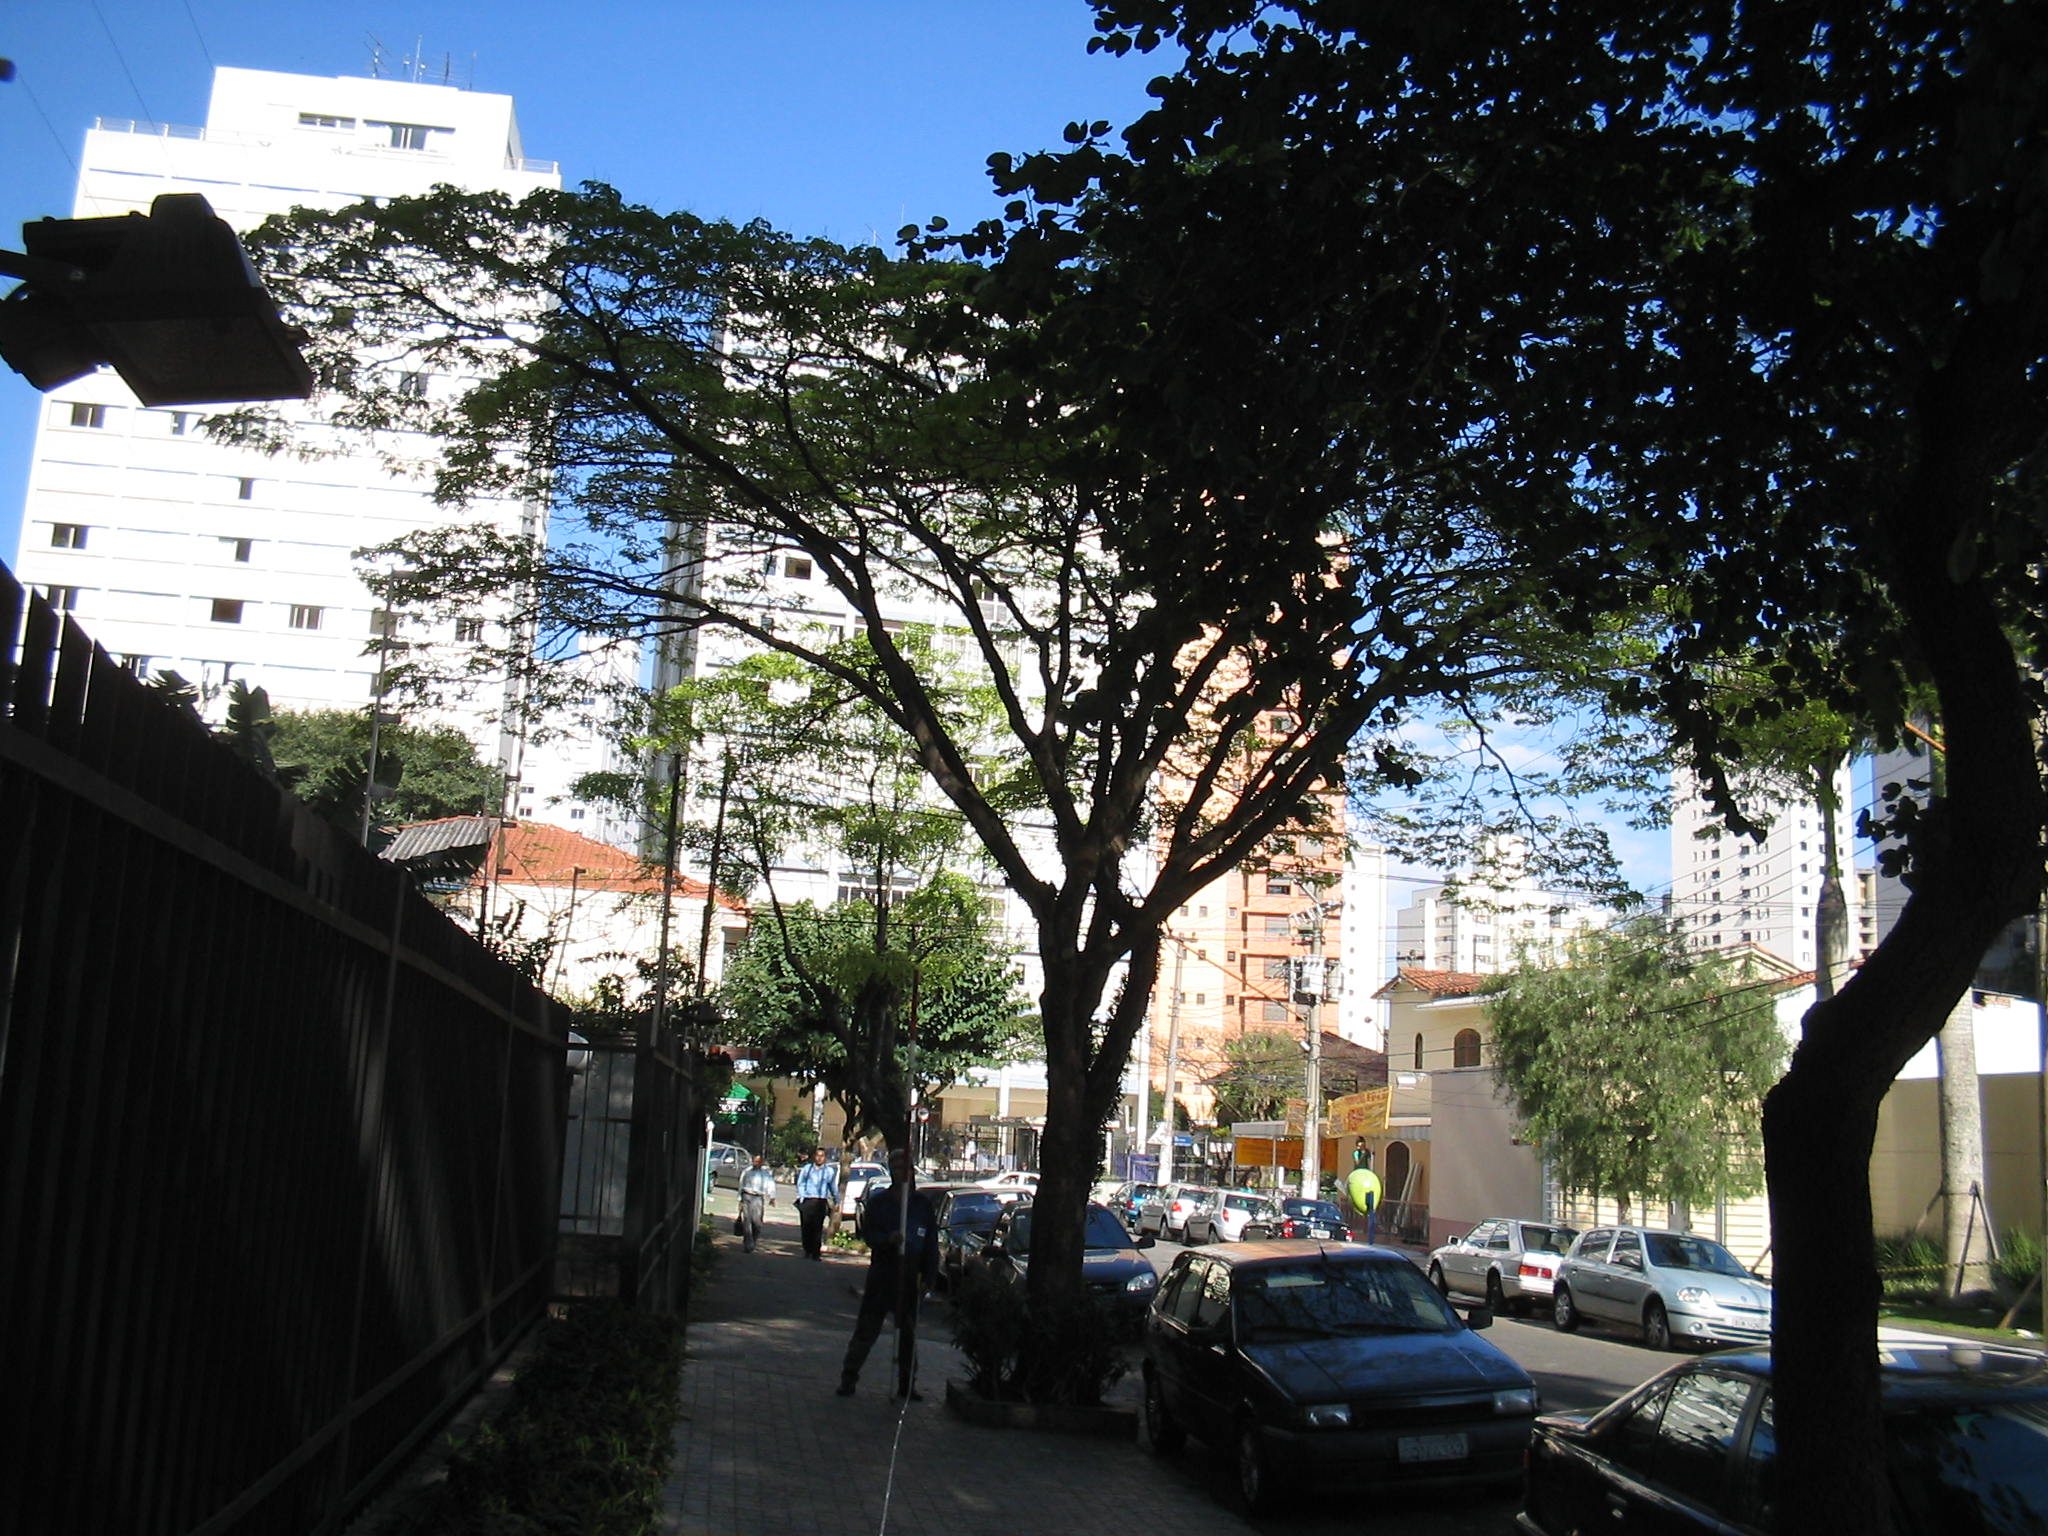crown: (214, 174, 1630, 958)
stem: (977, 1092, 1135, 1404)
stick: (879, 968, 934, 1407)
tree: (211, 173, 1640, 1412)
